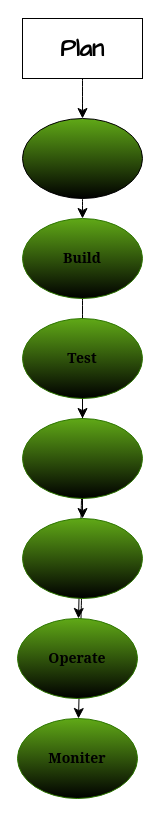
Image size: 160x816. Some labels were removed from this diagram. Here are the shapes that lost their labels. From the top down, the box of each, then its label:
(22, 118, 142, 198): Develop
(22, 418, 142, 498): Release
(22, 518, 142, 598): Deploy
